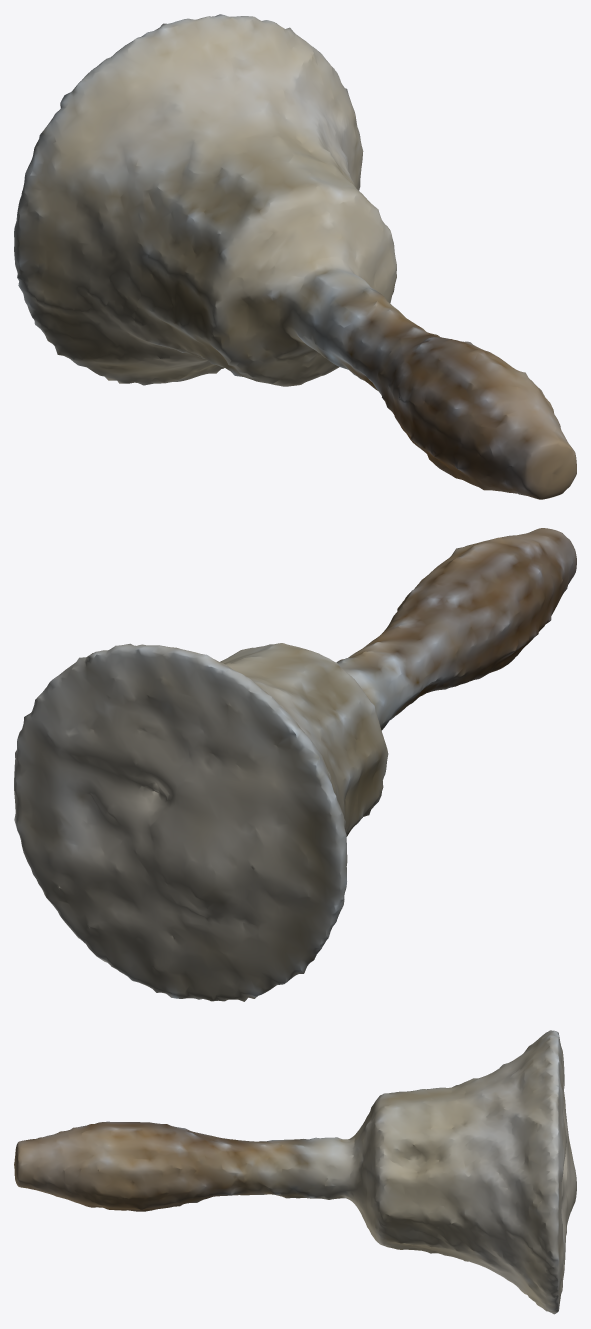
Rendered from bell.glb.
3 views of the same model, one above another, from view 1: azimuth 30°, elevation 25°; view 2: azimuth 150°, elevation 25°; view 3: azimuth 270°, elevation 25° (orthographic). The views are drawn at different scales.
Size of the model in its own units: 0.5019 by 0.5007 by 0.9978.
